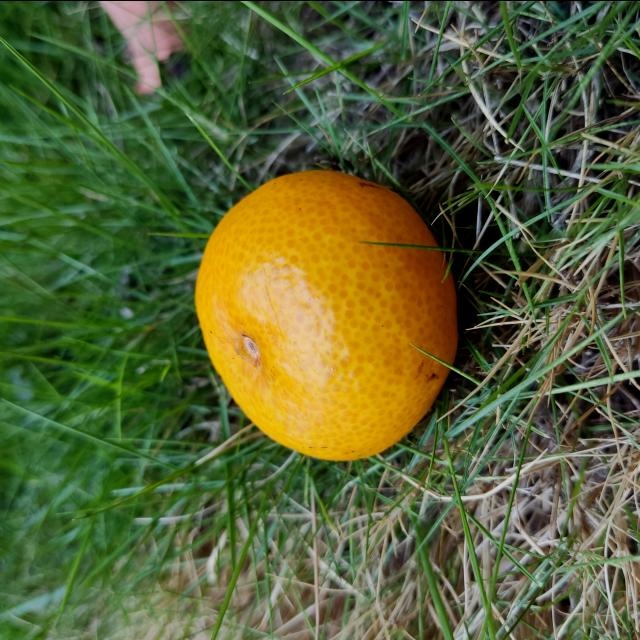agrume: (193, 172, 463, 463)
